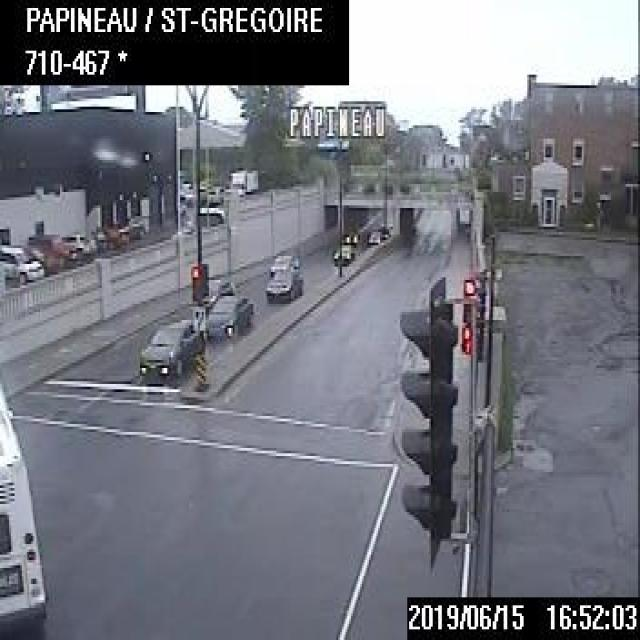bus: (0, 375, 47, 637)
vehicle: (134, 314, 194, 386), (202, 294, 253, 336), (0, 240, 42, 277), (264, 266, 303, 301), (199, 274, 232, 312), (60, 231, 96, 259), (227, 166, 260, 192), (268, 251, 298, 276), (116, 214, 145, 237), (332, 240, 353, 264), (342, 226, 359, 243), (366, 227, 380, 242)
